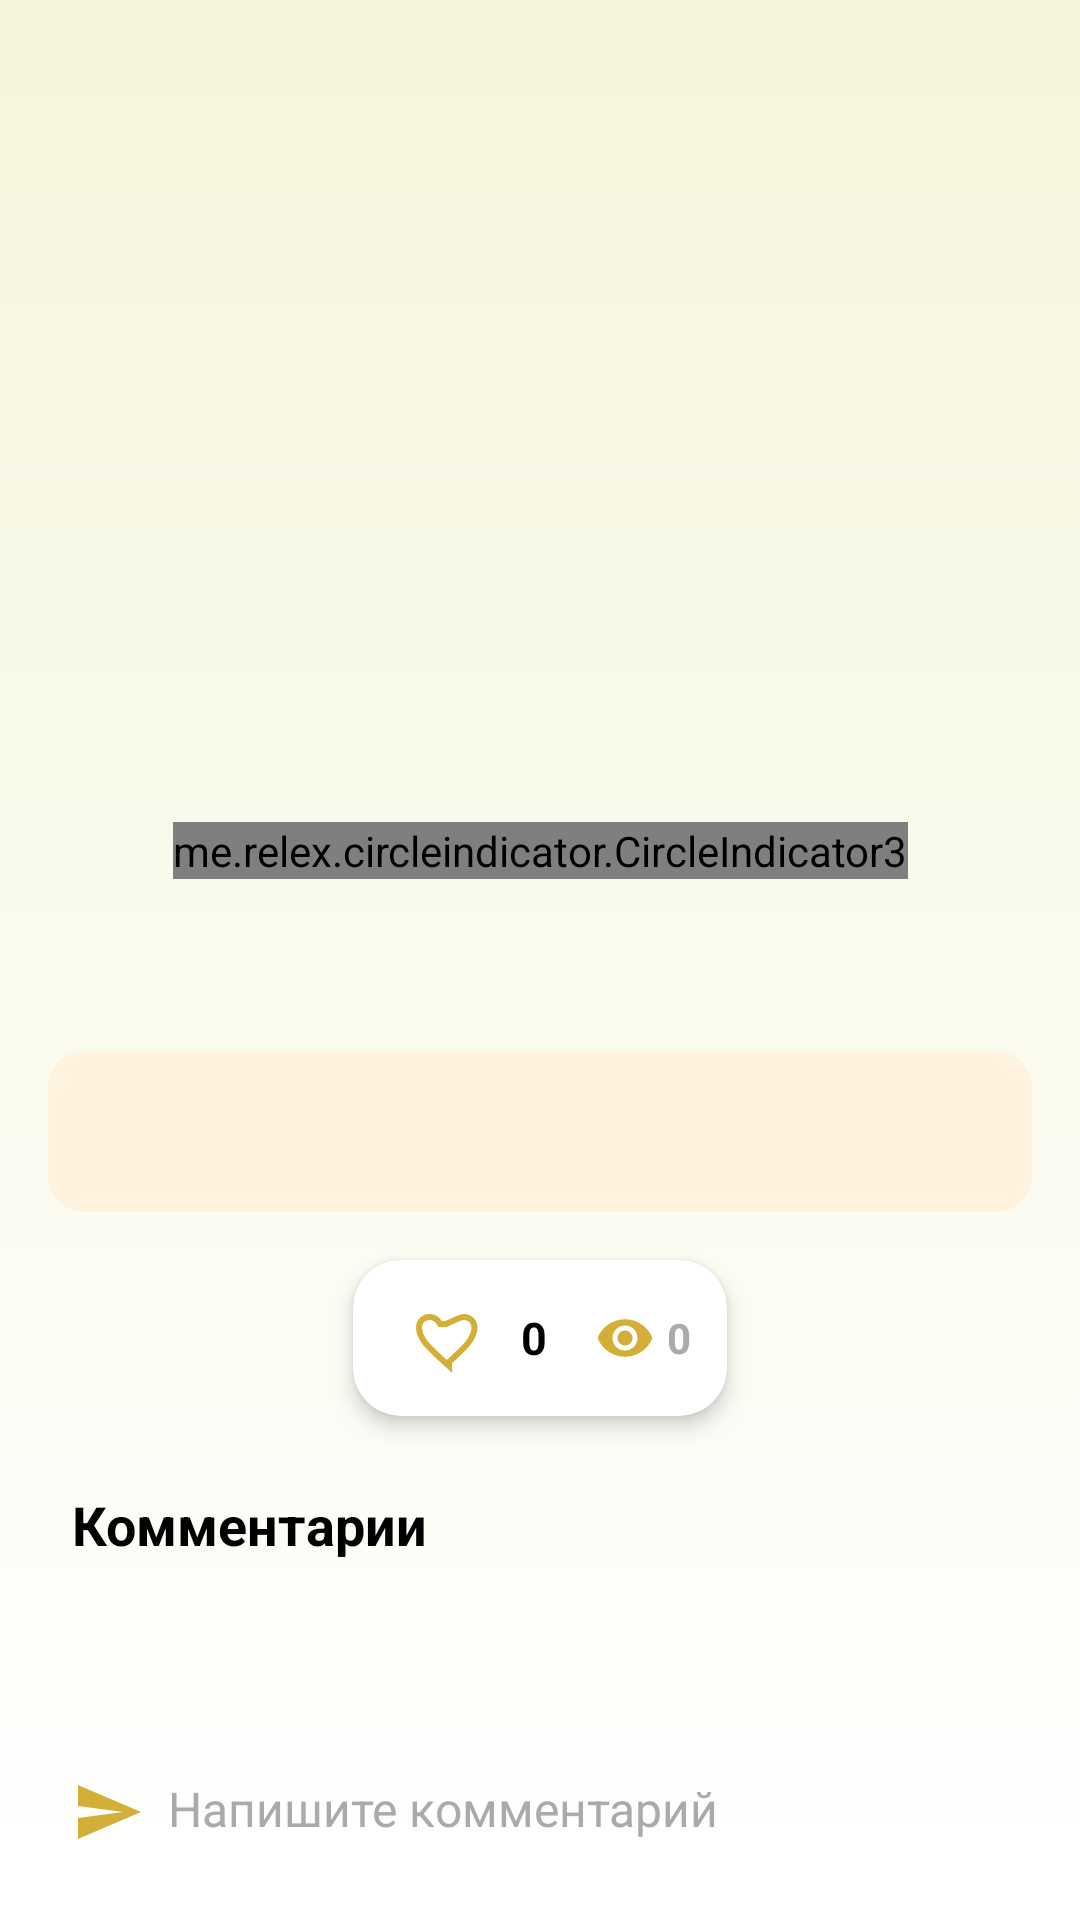

Icons on this 1080px×1920px Android screen, each with the point to tap as point (x, y):
Лайк: point (447, 1343)
Просмотры: point (625, 1338)
